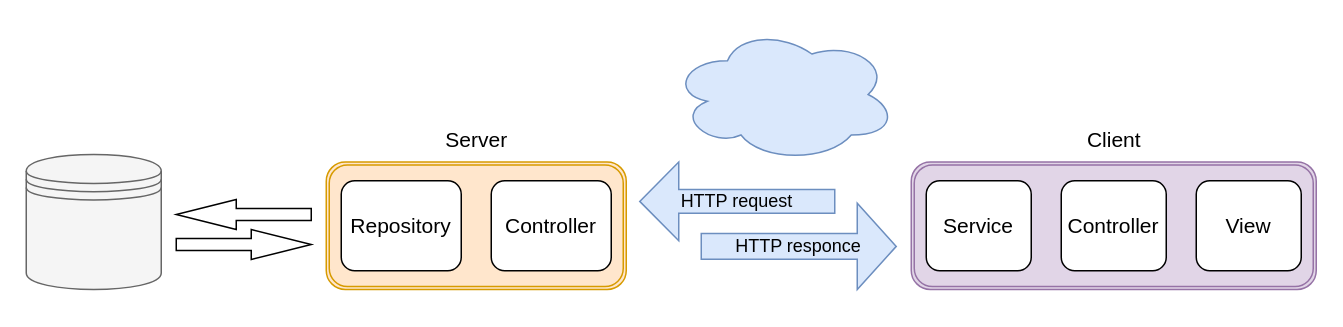
Image size: 1343x327. Some labels were removed from this diagram. The shapes that lost their labels are listed below. From the top down, each one's box as (x1, y1, x2, y2) in pixels, then its label:
(670, 26, 896, 162): REST
(25, 153, 161, 290): Database
